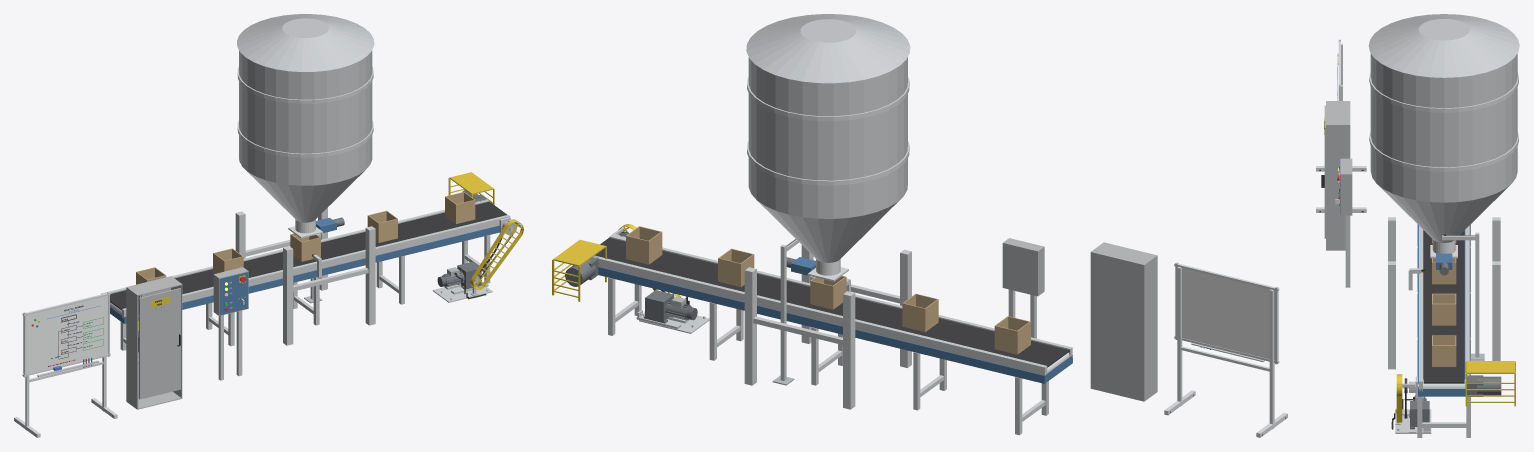
The model's file is silo_cell.glb.
3 renders of one model, left to right at view 1: azimuth 30°, elevation 25°; view 2: azimuth 150°, elevation 25°; view 3: azimuth 270°, elevation 25°, orthographic. The views are drawn at different scales.
Visible parts, largest first — view 1: Silo_Shell, Silo_Roof, WB_Panel, PLC_Door, Conv_Belt, Conv_SideRail_L, Silo_Hopper, Conv_Frame, PLC_Cab_Left, Silo_Leg_-1-1, Silo_Leg_1-1, Panel_Face (+8 smaller); view 2: Silo_Shell, Silo_Roof, PLC_Cab_Back, Conv_Belt, WB_Panel, Conv_SideRail_R, Conv_Frame, Silo_Hopper, Panel_Body, PLC_Cab_Left, Silo_Leg_-11, Silo_Leg_11 (+10 smaller); view 3: Silo_Shell, Silo_Roof, Conv_Belt, Silo_Hopper, PLC_Cab_Right, Conv_Frame, Silo_Leg_11, Silo_Band_1, Silo_Leg_1-1, Silo_Band_0, Panel_Body, Conv_SideRail_R (+23 smaller).
Part boxes in pixels (bbox=[...]): Silo_Shell: bbox=[239, 50, 372, 185]; Silo_Roof: bbox=[237, 14, 374, 71]; WB_Panel: bbox=[26, 295, 107, 374]; PLC_Door: bbox=[139, 288, 180, 399]; Conv_Belt: bbox=[110, 201, 507, 310]; Conv_SideRail_L: bbox=[122, 215, 510, 318]; Silo_Hopper: bbox=[244, 168, 364, 222]; Conv_Frame: bbox=[110, 225, 499, 323]; PLC_Cab_Left: bbox=[126, 287, 138, 409]; Silo_Leg_-1-1: bbox=[283, 246, 293, 345]; Silo_Leg_1-1: bbox=[365, 226, 375, 325]; Panel_Face: bbox=[219, 272, 248, 315]; Silo_Shell: bbox=[748, 57, 907, 218]; Silo_Roof: bbox=[746, 14, 910, 83]; PLC_Cab_Back: bbox=[1090, 252, 1144, 400]; Conv_Belt: bbox=[595, 238, 1069, 367]; WB_Panel: bbox=[1182, 268, 1274, 360]; Conv_SideRail_R: bbox=[593, 255, 1047, 375]; Conv_Frame: bbox=[598, 267, 1072, 383]; Silo_Hopper: bbox=[757, 198, 901, 262]; Panel_Body: bbox=[1002, 238, 1044, 296]; PLC_Cab_Left: bbox=[1143, 255, 1157, 401]; Silo_Leg_-11: bbox=[843, 291, 855, 409]; Silo_Leg_11: bbox=[744, 267, 756, 385]; Silo_Shell: bbox=[1370, 53, 1517, 202]; Silo_Roof: bbox=[1368, 14, 1519, 77]; Conv_Belt: bbox=[1423, 230, 1464, 383]; Silo_Hopper: bbox=[1377, 184, 1510, 242]; PLC_Cab_Right: bbox=[1326, 124, 1349, 249]; Conv_Frame: bbox=[1418, 225, 1470, 396]; Silo_Leg_11: bbox=[1492, 261, 1500, 360]; Silo_Band_1: bbox=[1369, 72, 1518, 112]; Silo_Leg_1-1: bbox=[1388, 261, 1395, 369]; Silo_Band_0: bbox=[1369, 131, 1518, 171]; Panel_Body: bbox=[1340, 158, 1352, 215]; Conv_SideRail_R: bbox=[1465, 225, 1469, 388].
Bounding box in the file's own units: 8.21 × 4.27 × 2.5.
